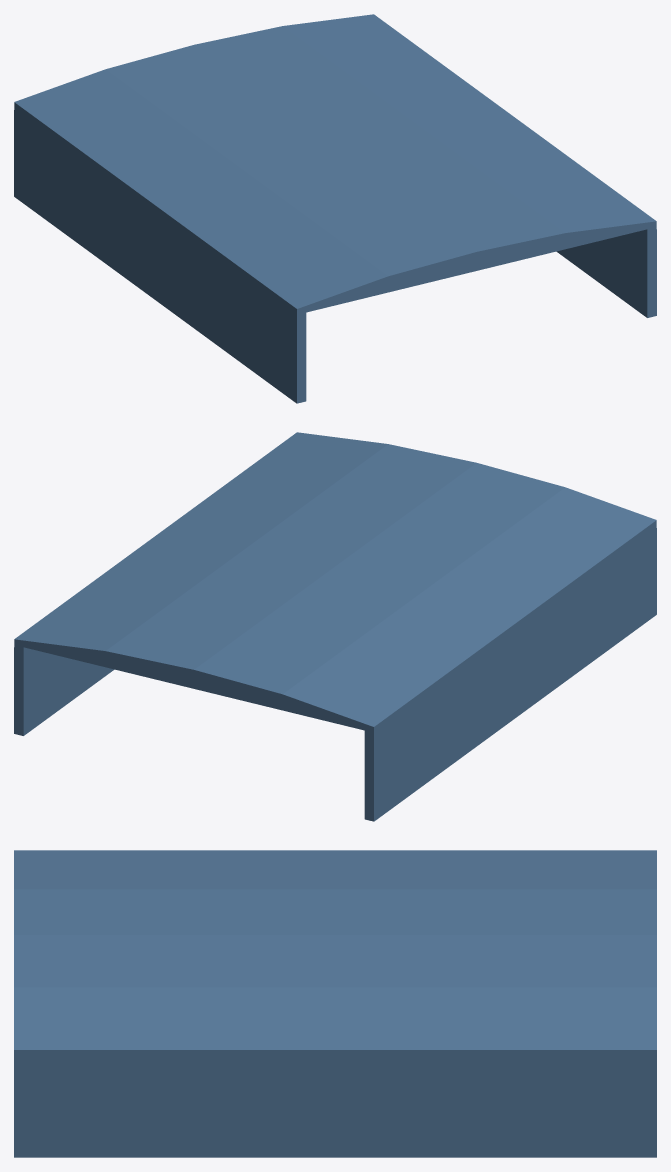
The model's file is Itr_Bed_Single_Blanket_04.FBX.
3 views of the same model, one above another, from view 1: azimuth 30°, elevation 25°; view 2: azimuth 150°, elevation 25°; view 3: azimuth 270°, elevation 25° (orthographic). The views are drawn at different scales.
Visible parts, largest first — view 1: Itr_Bed_Single_Blanket_04; view 2: Itr_Bed_Single_Blanket_04; view 3: Itr_Bed_Single_Blanket_04.
Boxes of the visible parts, <box> form: Itr_Bed_Single_Blanket_04: <box>14,14,656,403</box>; Itr_Bed_Single_Blanket_04: <box>14,432,656,821</box>; Itr_Bed_Single_Blanket_04: <box>14,850,656,1157</box>.
Bounding box in the file's own units: 47.68 × 13.65 × 64.86.
